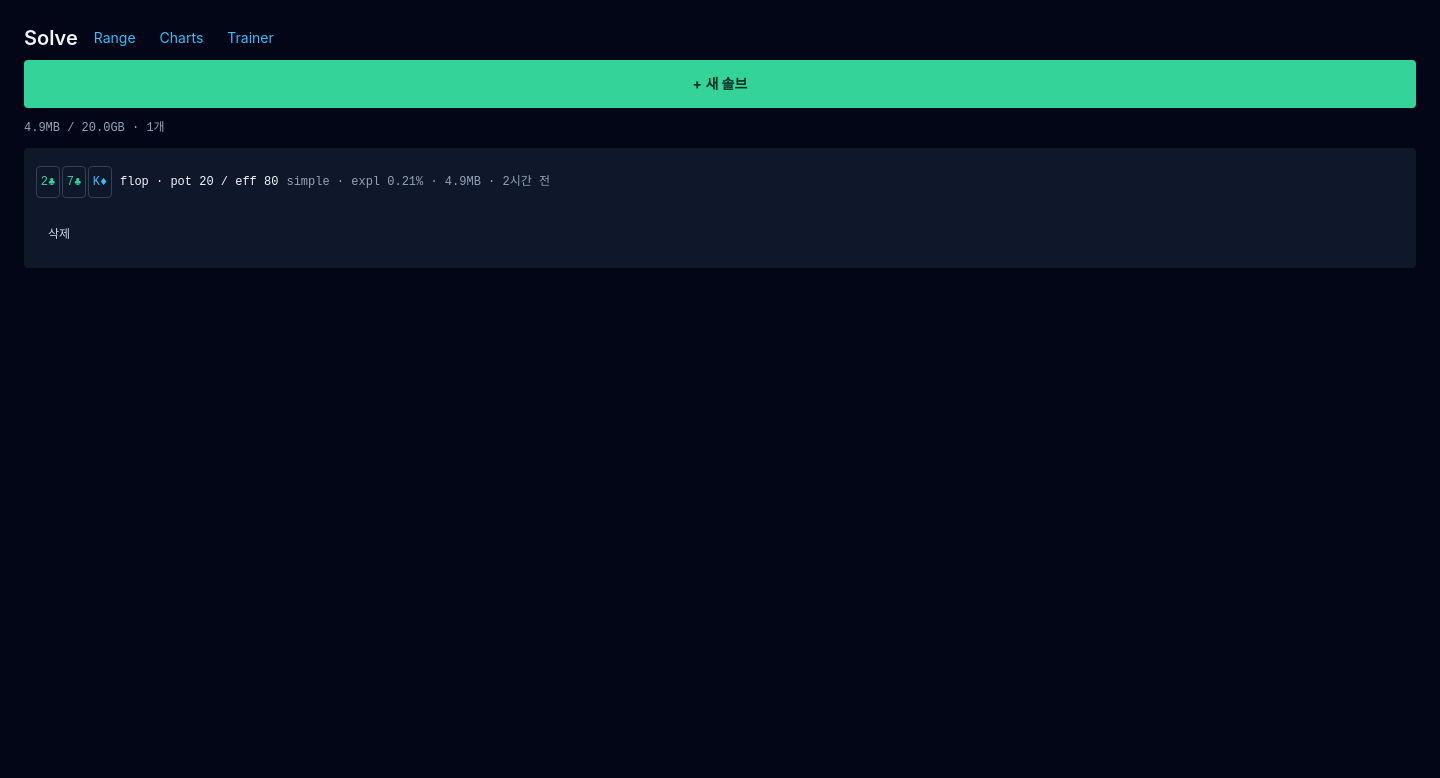
Test case: P5 3.1 새 솔브 › P5 3.1 제출 → 확인 시트에 메모리·시간이 뜬다 (confirm 없이 POST 한 번)
The image size is (1440, 778).
Click the button with test id "new-solve" at x=720, y=84, box left=24, top=60, right=1416, bottom=108
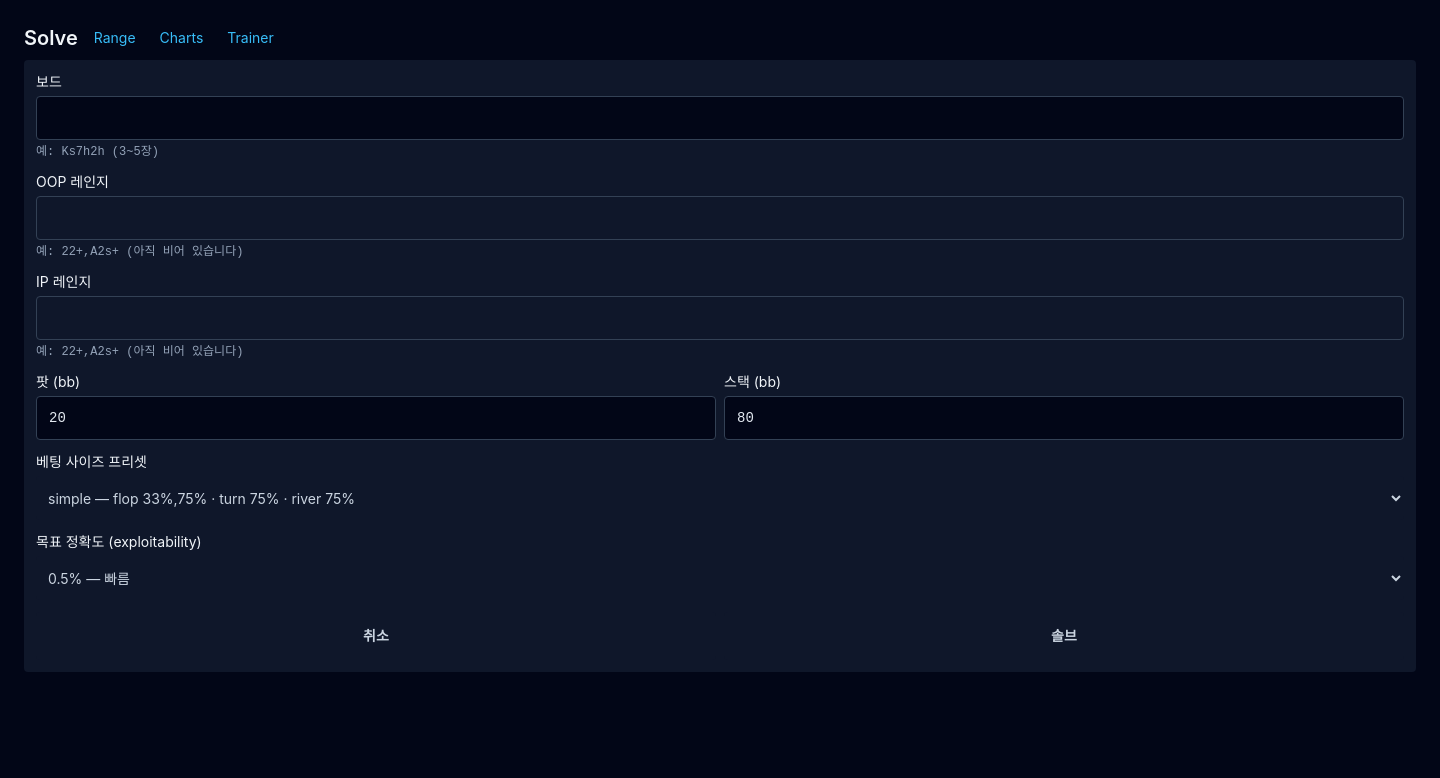
Type "Ks7h2h" into the field with test id "form-board" at x=720, y=118, box left=36, top=96, right=1404, bottom=140
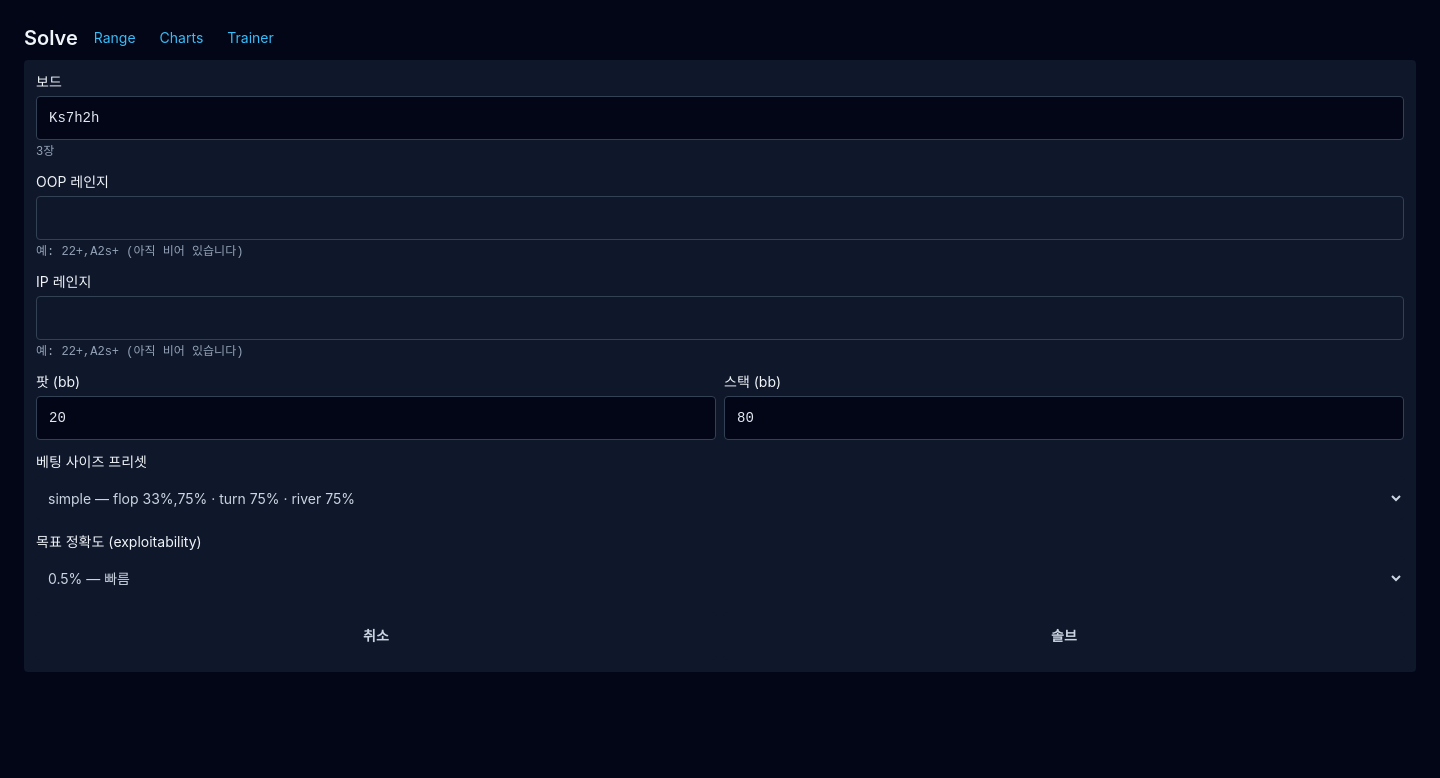
Type "22+,A2s+" into the field named "oop range" at x=720, y=218, box left=36, top=196, right=1404, bottom=240
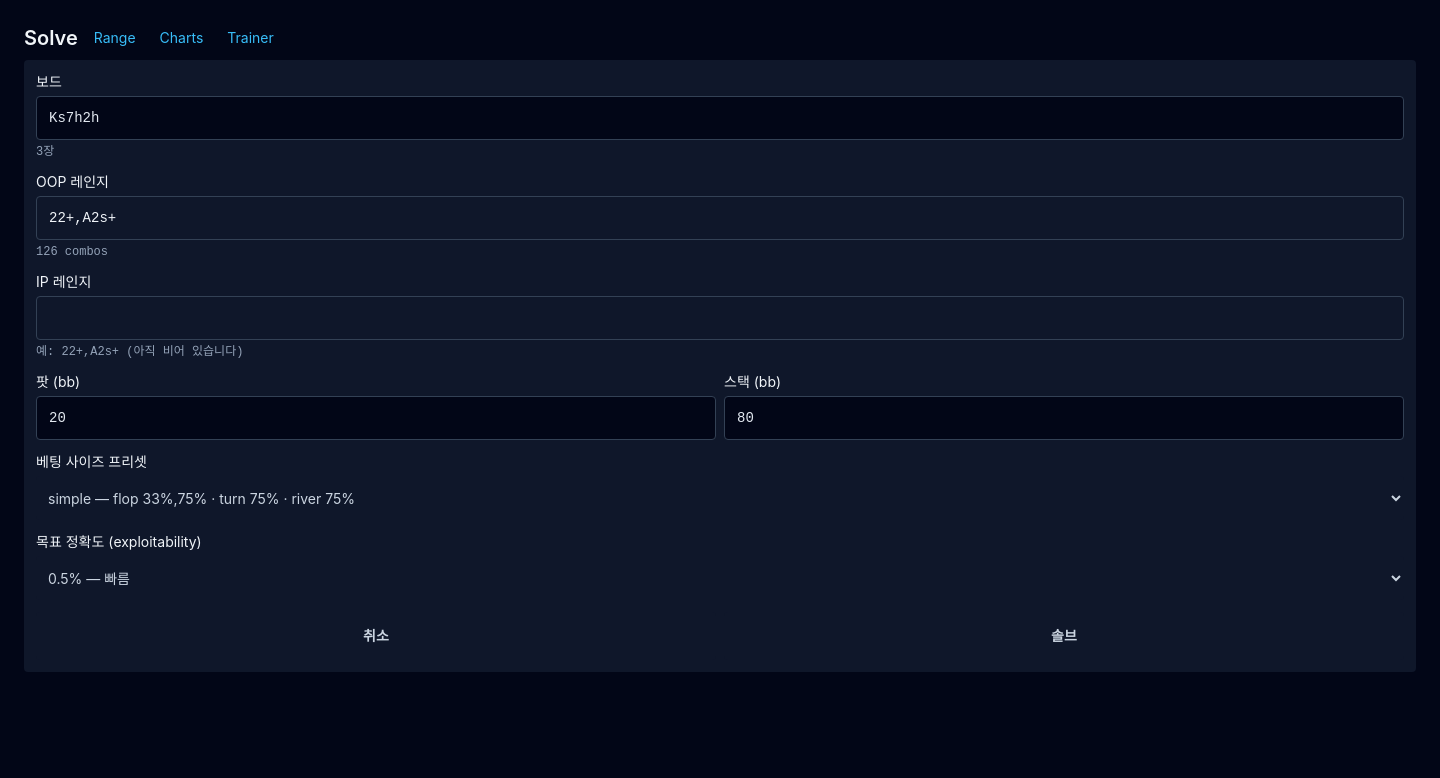
Type "TT-22,AJs-A2s" into the field named "ip range" at x=720, y=318, box left=36, top=296, right=1404, bottom=340
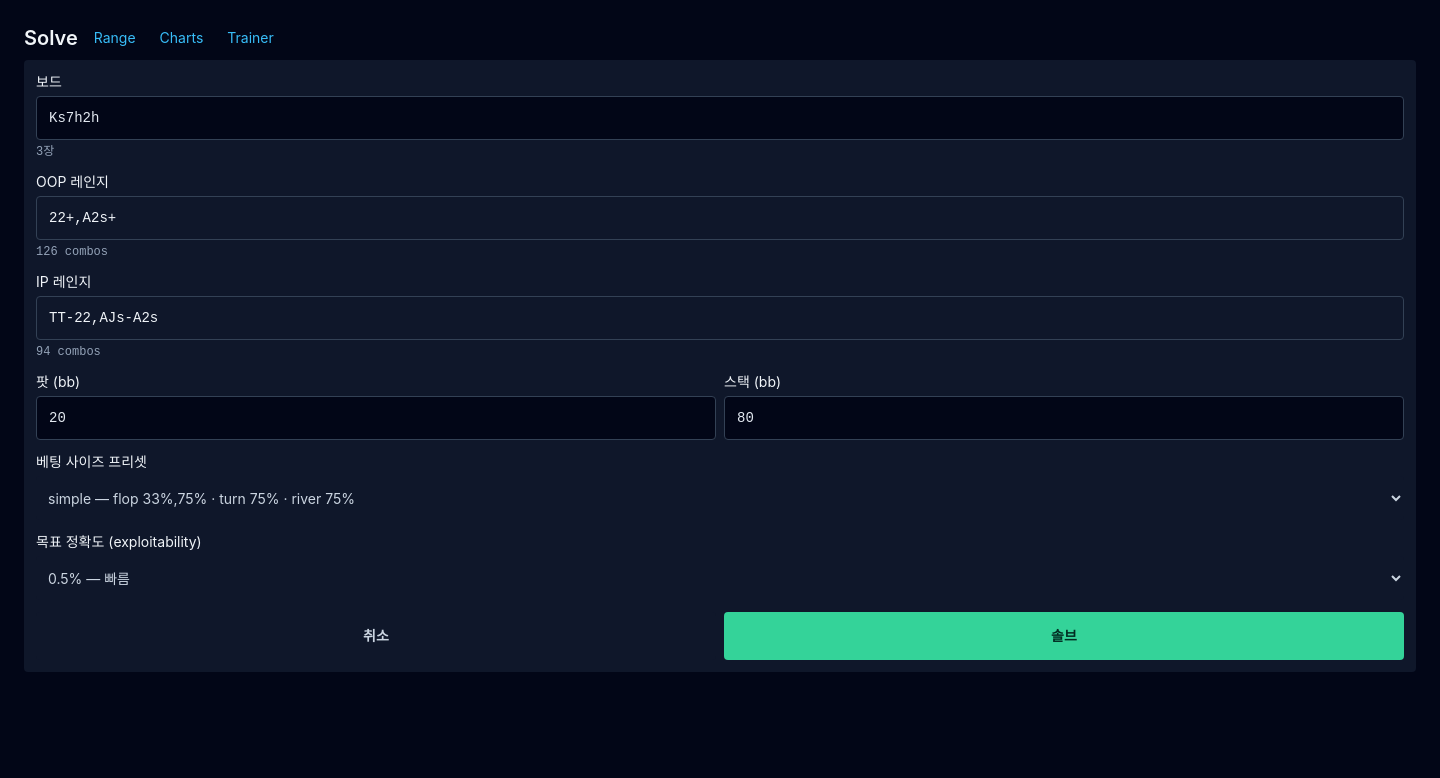
Click the button with test id "form-submit" at x=1064, y=636, box left=724, top=612, right=1404, bottom=660
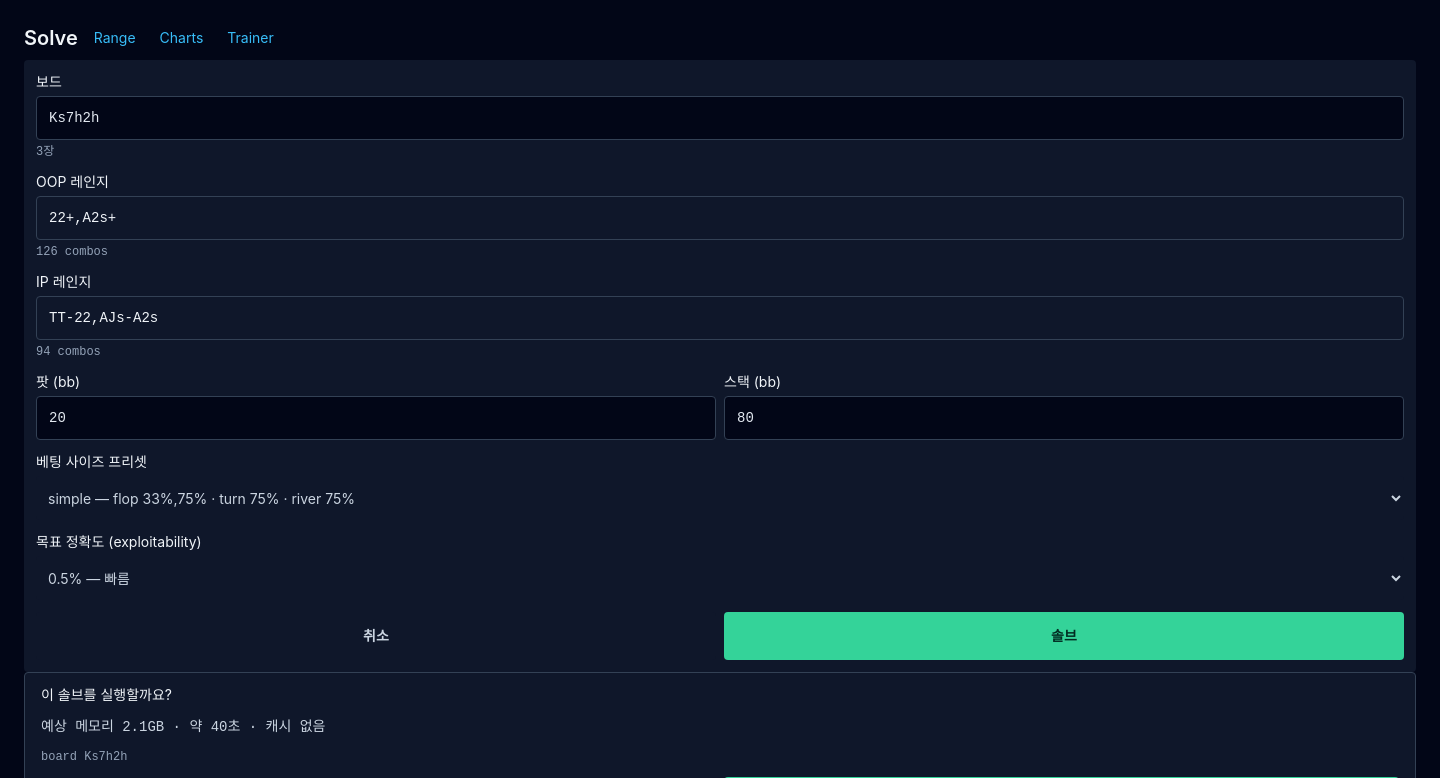
Now the text with test id "estimate-line" shows "2.1GB", box left=41, top=719, right=326, bottom=735
Now the text with test id "estimate-line" shows "40초", box left=41, top=719, right=326, bottom=735
